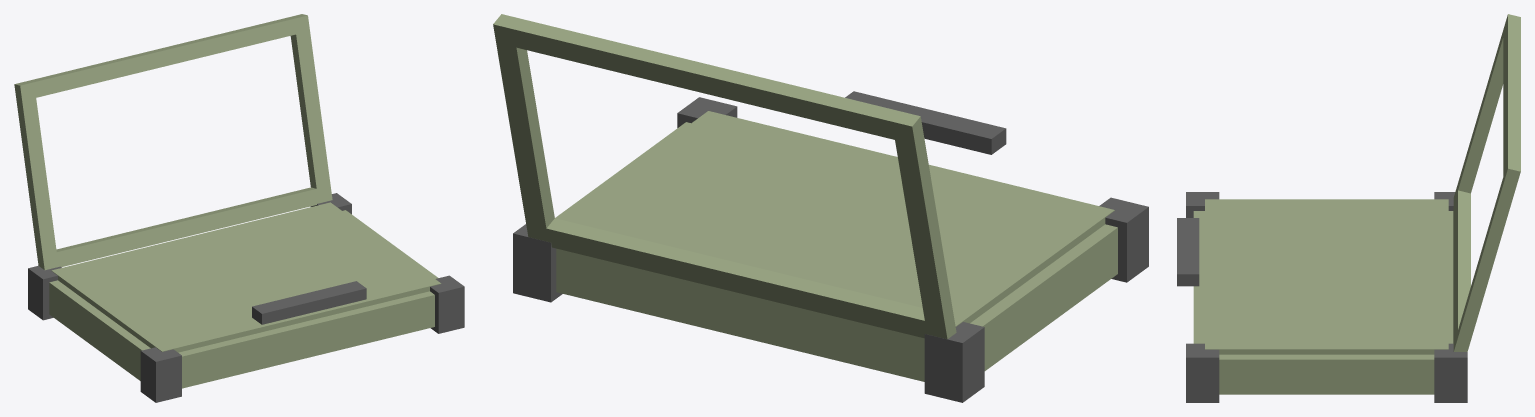
Rendered from case-tactical.glb.
The picture shows the model from 3 angles, left to right: view 1: azimuth 30°, elevation 25°; view 2: azimuth 150°, elevation 25°; view 3: azimuth 270°, elevation 25°; orthographic projection. The views are drawn at different scales.
Visible parts, largest first — view 1: geometry_1, geometry_0, geometry_8, geometry_7, geometry_9, geometry_10, geometry_6, geometry_3, geometry_5, geometry_2; view 2: geometry_1, geometry_0, geometry_7, geometry_8, geometry_9, geometry_10, geometry_2, geometry_6, geometry_4, geometry_3, geometry_5; view 3: geometry_1, geometry_0, geometry_7, geometry_10, geometry_8, geometry_9, geometry_5, geometry_4, geometry_6, geometry_3.
Part boxes in pixels (x1,y1,x2,y2): geometry_1: (51,202,441,352); geometry_0: (49,210,438,388); geometry_8: (37,185,332,270); geometry_7: (14,14,309,100); geometry_9: (15,81,58,269); geometry_10: (290,15,332,202); geometry_6: (252,281,366,324); geometry_3: (140,347,181,402); geometry_5: (430,275,464,333); geometry_2: (28,265,61,320); geometry_1: (560,111,1114,326); geometry_0: (555,122,1117,381); geometry_7: (493,14,923,144); geometry_8: (526,218,956,339); geometry_9: (892,112,955,338); geometry_10: (493,15,554,239); geometry_2: (924,322,984,402); geometry_6: (845,91,1006,154); geometry_4: (513,224,562,302); geometry_3: (1099,197,1148,282); geometry_5: (677,97,737,127); geometry_1: (1205,199,1448,354); geometry_0: (1193,211,1453,394); geometry_7: (1503,14,1520,186); geometry_10: (1453,161,1520,351); geometry_8: (1453,184,1470,351); geometry_9: (1458,14,1520,193); geometry_5: (1186,343,1219,402); geometry_4: (1434,343,1467,402); geometry_6: (1177,218,1199,286); geometry_3: (1186,192,1219,217).
Bounding box in the file's own units: 0.354 × 0.2276 × 0.31.
